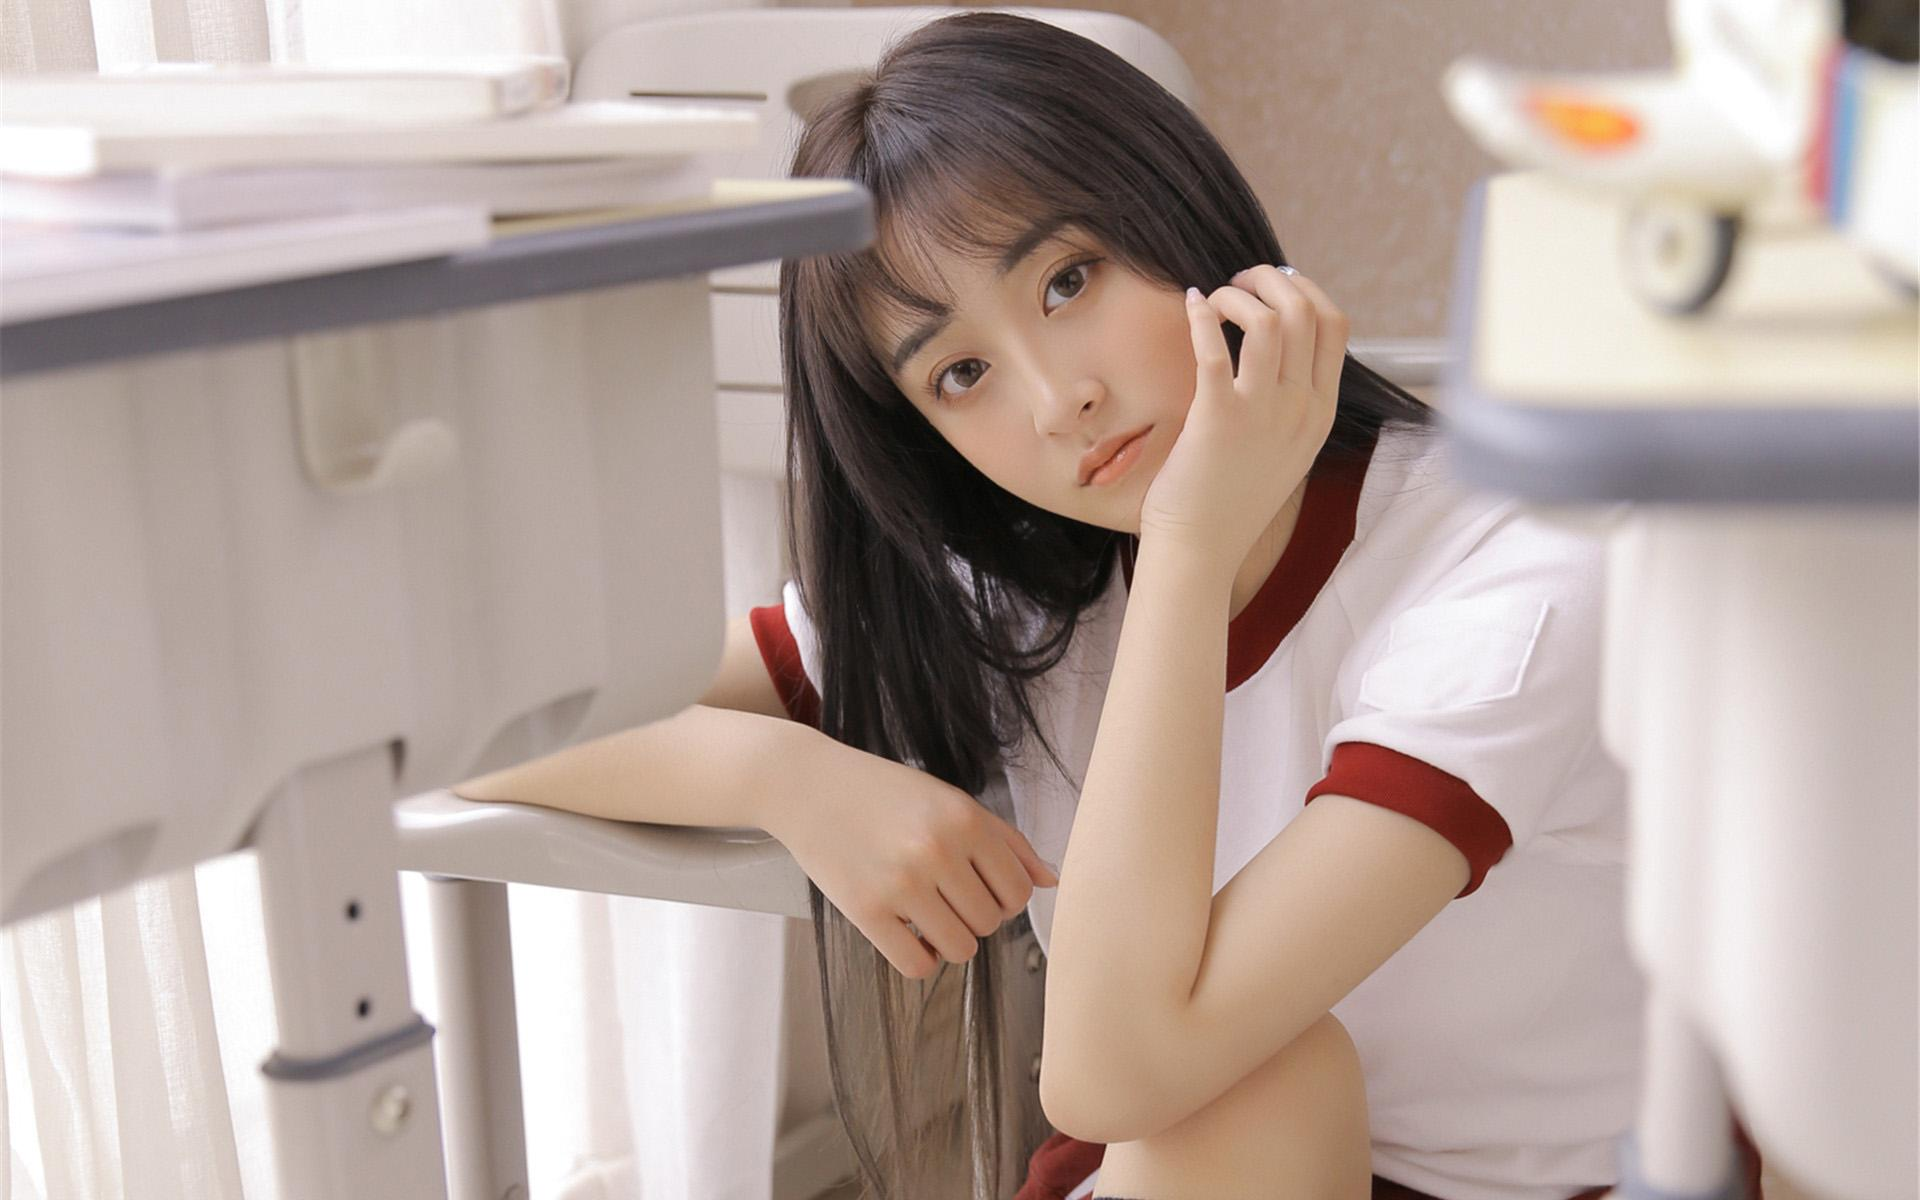person: (663, 51, 1630, 1144)
